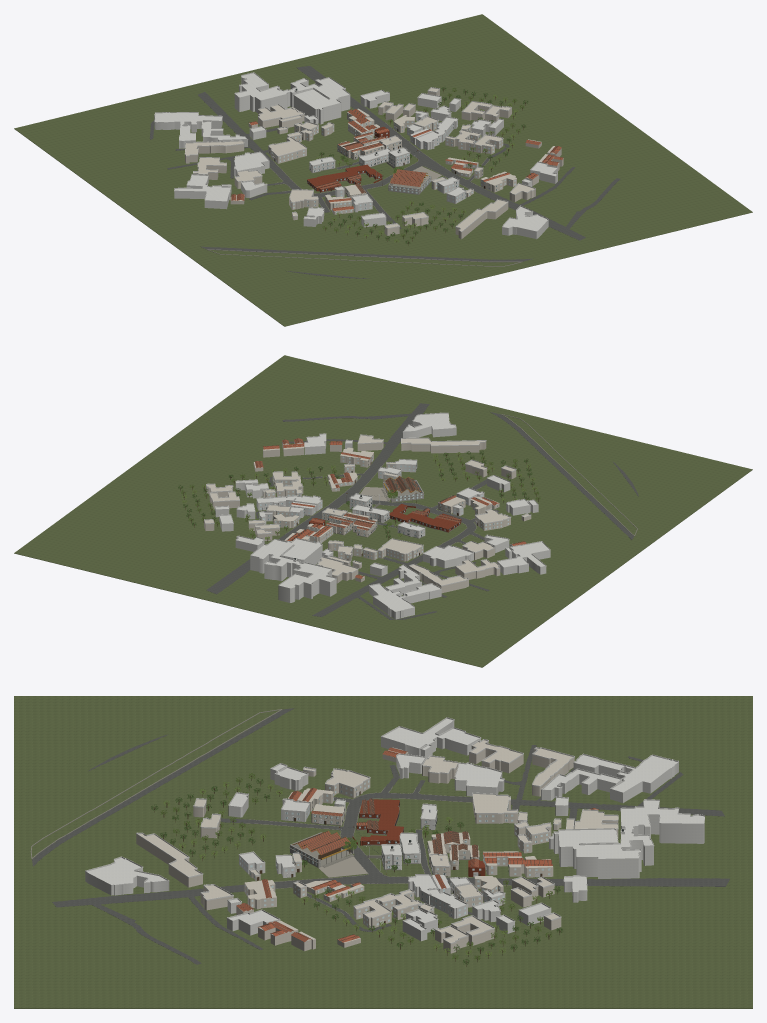
File: surroundings.glb
3 views of the same model, one above another, from view 1: azimuth 30°, elevation 25°; view 2: azimuth 150°, elevation 25°; view 3: azimuth 270°, elevation 25° (orthographic). The views are drawn at different scales.
Visible parts, largest first — view 1: CONTEXT_ground, CONTEXT_white, CONTEXT_wall, CONTEXT_road, CONTEXT_roof, CONTEXT_slab, CONTEXT_roofdark, CONTEXT_glass, CONTEXT_brick, CONTEXT_green3, CONTEXT_green2, CONTEXT_green; view 2: CONTEXT_ground, CONTEXT_white, CONTEXT_wall, CONTEXT_road, CONTEXT_roof, CONTEXT_slab, CONTEXT_roofdark, CONTEXT_glass, CONTEXT_brick, CONTEXT_green3, CONTEXT_green, CONTEXT_green2; view 3: CONTEXT_ground, CONTEXT_white, CONTEXT_wall, CONTEXT_road, CONTEXT_roof, CONTEXT_slab, CONTEXT_roofdark, CONTEXT_green3, CONTEXT_brick, CONTEXT_glass, CONTEXT_green, CONTEXT_green2 (+2 smaller).
Boxes of the visible parts, x1,y1,x2,y2 form: CONTEXT_ground: (14,14,752,326); CONTEXT_white: (154,72,557,239); CONTEXT_wall: (185,88,563,239); CONTEXT_road: (149,66,620,278); CONTEXT_roof: (231,109,563,210); CONTEXT_slab: (206,122,522,266); CONTEXT_roofdark: (231,109,561,210); CONTEXT_glass: (268,114,515,213); CONTEXT_brick: (307,127,389,192); CONTEXT_green3: (319,87,528,243); CONTEXT_green2: (316,94,518,242); CONTEXT_green: (322,88,524,239); CONTEXT_ground: (14,355,752,667); CONTEXT_white: (204,412,550,619); CONTEXT_wall: (204,435,531,593); CONTEXT_road: (206,403,638,619); CONTEXT_roof: (255,438,526,578); CONTEXT_slab: (264,414,637,558); CONTEXT_roofdark: (255,438,526,578); CONTEXT_glass: (256,456,508,559); CONTEXT_brick: (309,504,461,532); CONTEXT_green3: (178,450,534,538); CONTEXT_green: (181,455,540,536); CONTEXT_green2: (182,452,537,540); CONTEXT_ground: (14,696,752,1008); CONTEXT_white: (85,717,704,944); CONTEXT_wall: (136,740,618,953); CONTEXT_road: (32,708,729,964); CONTEXT_roof: (236,747,598,942); CONTEXT_slab: (30,709,538,915); CONTEXT_roofdark: (238,749,597,942); CONTEXT_green3: (151,778,562,964); CONTEXT_brick: (352,799,485,876); CONTEXT_glass: (239,780,550,925); CONTEXT_green: (160,773,552,960); CONTEXT_green2: (163,782,539,956).
Bounding box in the file's own units: 430 × 15.95 × 430.
19 materials, 8 textured.
